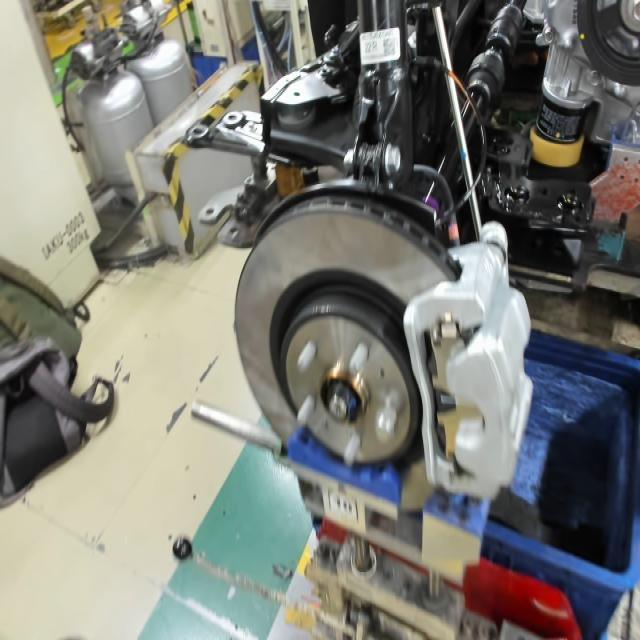Absorber RH-22: (362, 36, 398, 59)
Disc-HT: (259, 266, 434, 487)
